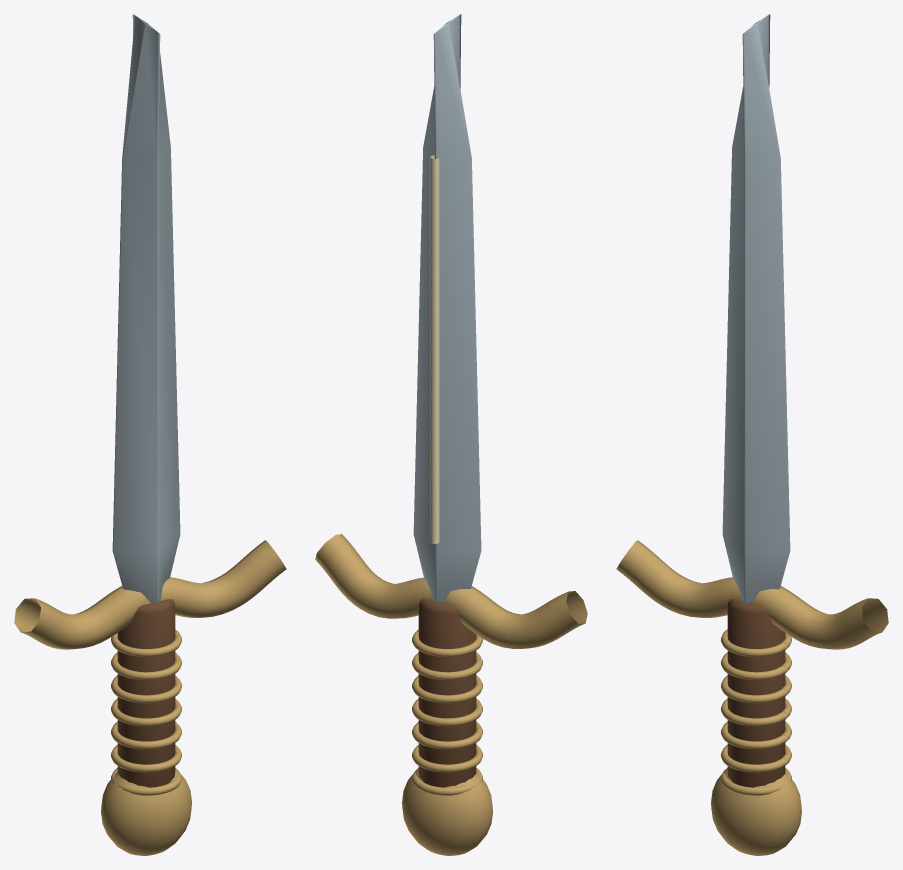
File: sunsteel_sword.glb
3 renders of one model, left to right at view 1: azimuth 30°, elevation 25°; view 2: azimuth 150°, elevation 25°; view 3: azimuth 330°, elevation 25°, orthographic.
Visible parts, largest first — view 1: Tempered diamond edge, Swept quillons, Leather grip, Pommel, Bound grip.001, Bound grip.002, Bound grip.003, Bound grip.004, Bound grip.005, Bound grip.006, Bound grip; view 2: Tempered diamond edge, Swept quillons, Leather grip, Pommel, Inlaid fuller, Bound grip.001, Bound grip.002, Bound grip.003, Bound grip.004, Bound grip.005, Bound grip.006, Bound grip; view 3: Tempered diamond edge, Swept quillons, Leather grip, Pommel, Bound grip.001, Bound grip.002, Bound grip.003, Bound grip.004, Bound grip.005, Bound grip.006, Bound grip.
Part boxes in pixels (<box>): Tempered diamond edge: <box>112,14,180,603</box>; Swept quillons: <box>14,540,286,649</box>; Leather grip: <box>117,599,175,787</box>; Pommel: <box>101,768,191,855</box>; Bound grip.001: <box>111,745,181,772</box>; Bound grip.002: <box>111,722,181,749</box>; Bound grip.003: <box>111,698,181,726</box>; Bound grip.004: <box>111,675,181,703</box>; Bound grip.005: <box>111,652,181,679</box>; Bound grip.006: <box>111,629,181,656</box>; Bound grip: <box>111,768,182,795</box>; Tempered diamond edge: <box>413,14,481,603</box>; Swept quillons: <box>315,534,587,648</box>; Leather grip: <box>418,599,476,787</box>; Pommel: <box>402,768,492,855</box>; Inlaid fuller: <box>430,155,439,543</box>; Bound grip.001: <box>412,745,482,772</box>; Bound grip.002: <box>412,722,482,749</box>; Bound grip.003: <box>412,698,482,726</box>; Bound grip.004: <box>412,675,482,703</box>; Bound grip.005: <box>412,652,482,679</box>; Bound grip.006: <box>412,629,482,656</box>; Bound grip: <box>412,768,482,795</box>; Tempered diamond edge: <box>722,14,790,603</box>; Swept quillons: <box>616,540,888,649</box>; Leather grip: <box>727,599,785,787</box>; Pommel: <box>711,768,801,855</box>; Bound grip.001: <box>721,745,791,772</box>; Bound grip.002: <box>721,722,791,749</box>; Bound grip.003: <box>721,698,791,726</box>; Bound grip.004: <box>721,675,791,703</box>; Bound grip.005: <box>721,652,791,679</box>; Bound grip.006: <box>721,629,791,656</box>; Bound grip: <box>720,768,791,795</box>.
Size of the model in its own units: 0.5744 by 1.72 by 0.15.
